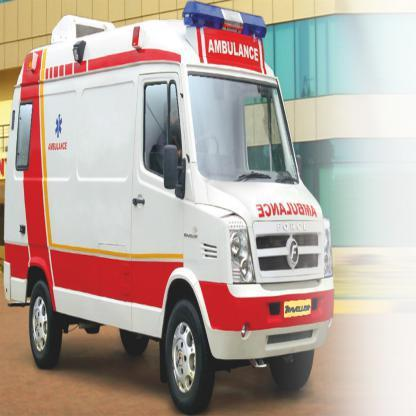ambulance_off: (0, 1, 331, 416)
